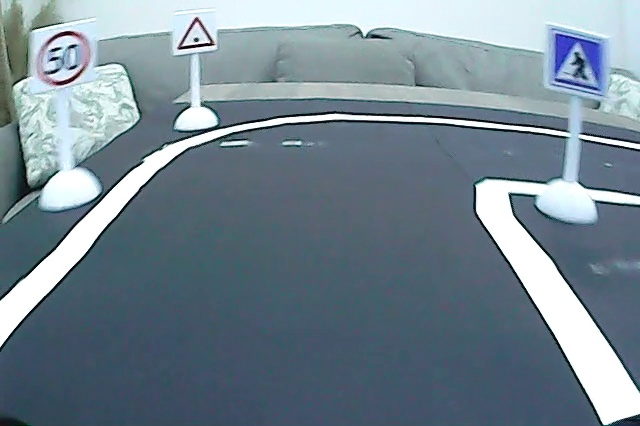green light: (174, 14, 216, 52)
pedestrian crossing: (549, 29, 607, 94)
speed limit 50: (31, 27, 94, 89)
